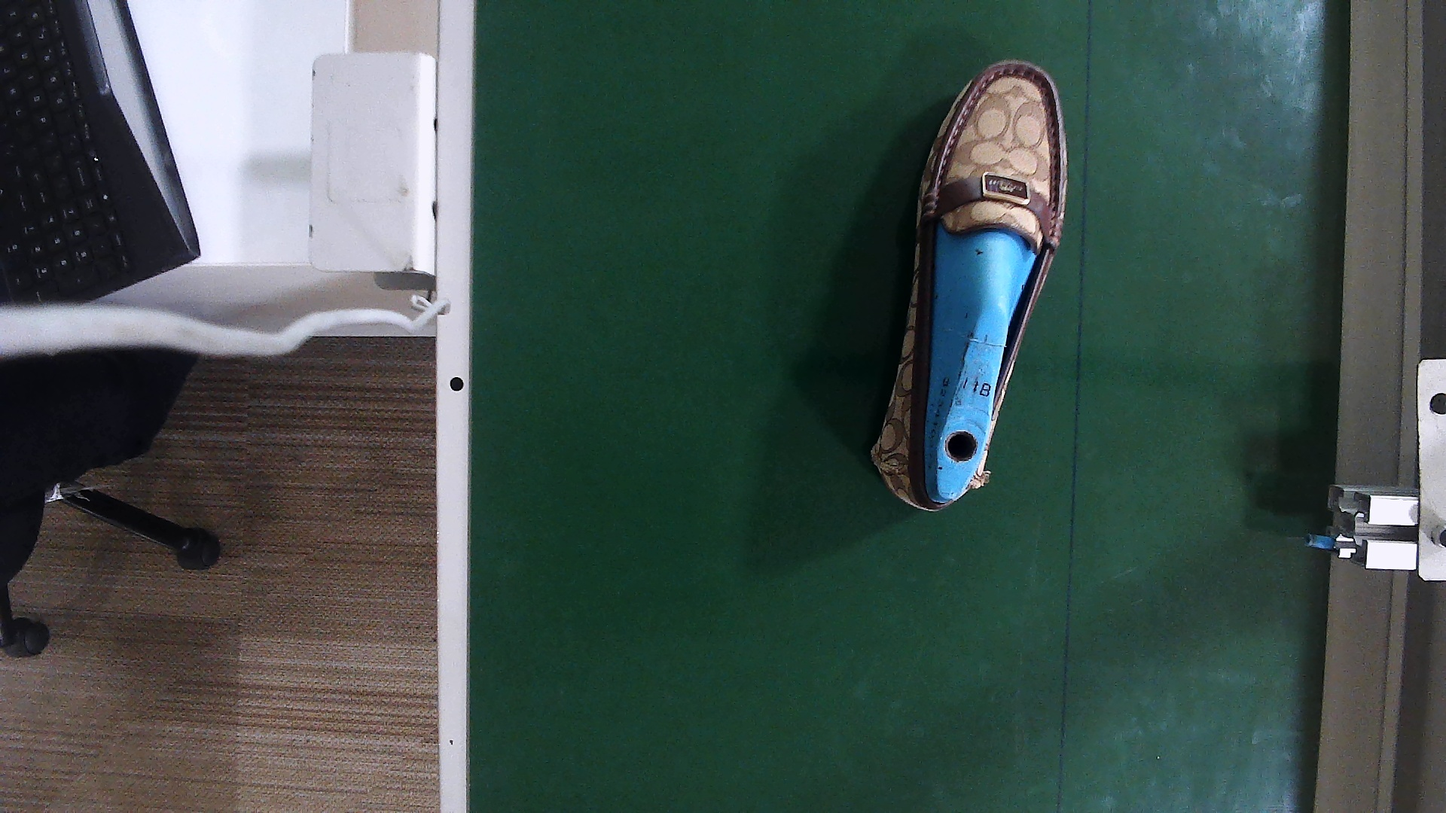shoe: (876, 63, 1066, 510)
